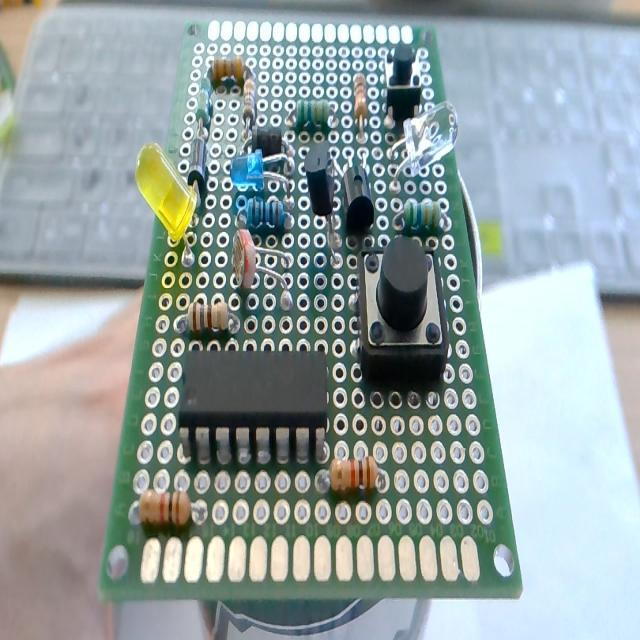IC: (172, 339, 334, 465)
cds: (226, 222, 300, 310)
diode: (247, 120, 289, 156), (188, 134, 205, 206)
led: (132, 141, 204, 263), (391, 103, 457, 185), (224, 148, 298, 198)
resistor: (129, 476, 207, 537), (317, 451, 393, 512), (176, 293, 235, 338), (241, 188, 291, 239), (390, 194, 442, 238), (287, 100, 333, 132), (206, 54, 253, 84), (350, 71, 366, 134), (240, 86, 254, 136)
switch: (352, 240, 452, 392), (379, 43, 427, 121)
transistor: (301, 135, 343, 273), (329, 142, 383, 238)
